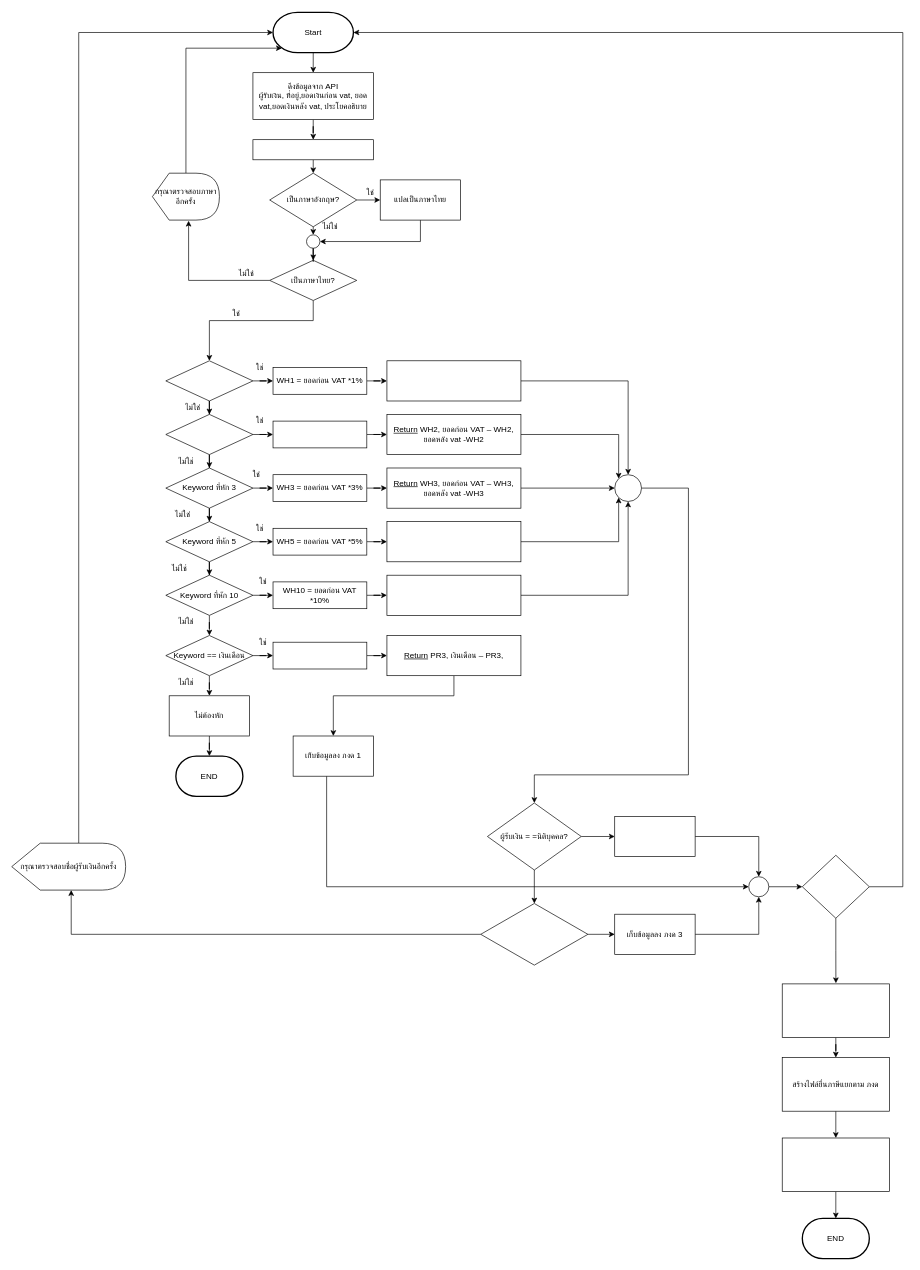
Some shapes in this 920 by 1270 pixel diagram are drawn without their labels. The centre of each missing label's shape, as x and y in pixels:
Keyword ที่หัก 1: (209,380)
Keyword ที่หัก 2: (209,434)
PR3 = เงินเดือน * 3%: (319,655)
Return WH1, ยอดก่อน VAT – WH1, ยอดหลัง vat -WH1: (453,380)
Return WH10, ยอดก่อน VAT – WH10, ยอดหลัง vat -WH10: (453,595)
Return WH5, ยอดก่อน VAT – WH5, ยอดหลัง vat -WH5: (453,541)
WH2 = ยอดก่อน VAT *2%: (319,434)
ข้อมูลมีอีกไหม: (835,886)
ตัดประโยคอธิบาย: (313,149)
ผู้รับเงิน = = บุคคลธรรมดา?: (534,934)
สร้างสรุปรายการหักภาษี แยกตาม ภงด: (835,1164)
สร้างไฟล์สรุป ค่าใช้จ่ายที่มีการหัก ณ ที่จ่าย ทั้งหมด: (835,1010)
เก็บข้อมูลลง ภงด 53: (654,836)
